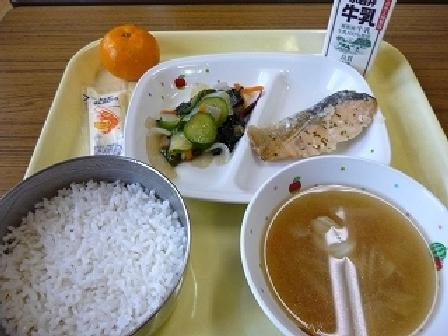Citrus: (93, 18, 171, 79)
Fish: (253, 86, 386, 165)
Milk: (321, 0, 402, 79)
Rice: (3, 160, 187, 335)
Salad: (142, 78, 262, 169)
Soups: (240, 160, 447, 335)
